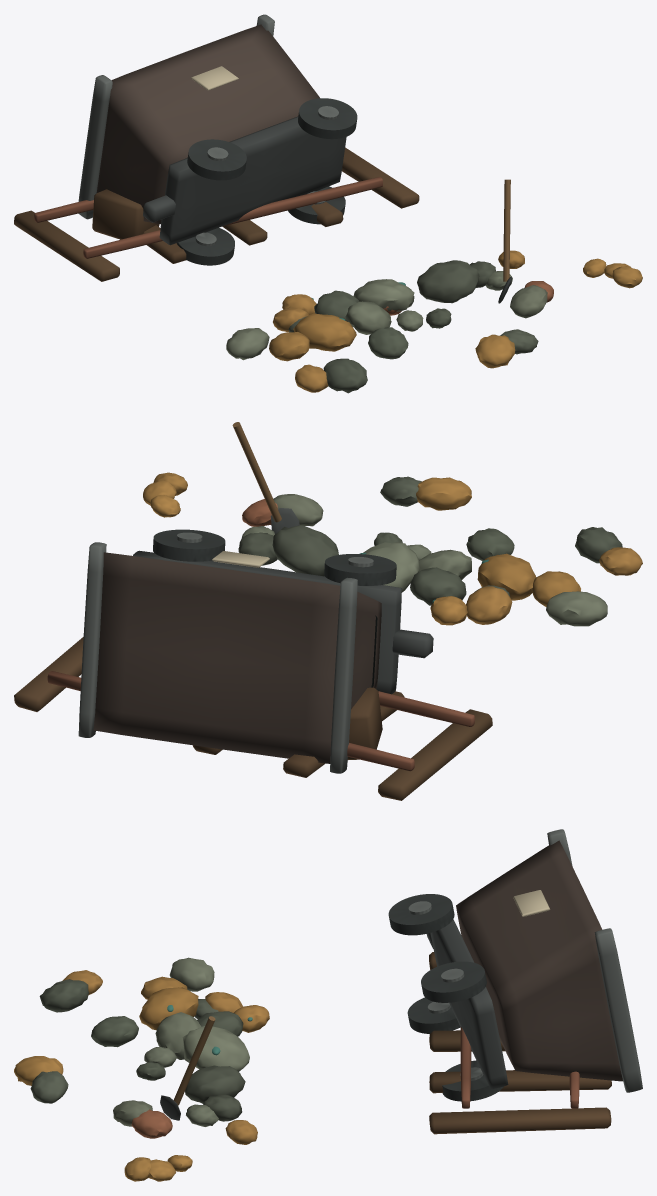
The model's file is ore_car_a.glb.
The picture shows the model from 3 angles, top to bottom: view 1: azimuth 30°, elevation 25°; view 2: azimuth 150°, elevation 25°; view 3: azimuth 270°, elevation 25°; orthographic projection. The views are drawn at different scales.
Parts seen in each view (by area): view 1: Surface; view 2: Surface; view 3: Surface.
Boxes of the visible parts, x1,y1,x2,y2 form: Surface: (14,14,642,393); Surface: (14,422,642,800); Surface: (14,829,642,1181).
Size of the model in its own units: 5.86 by 2.09 by 6.94.
